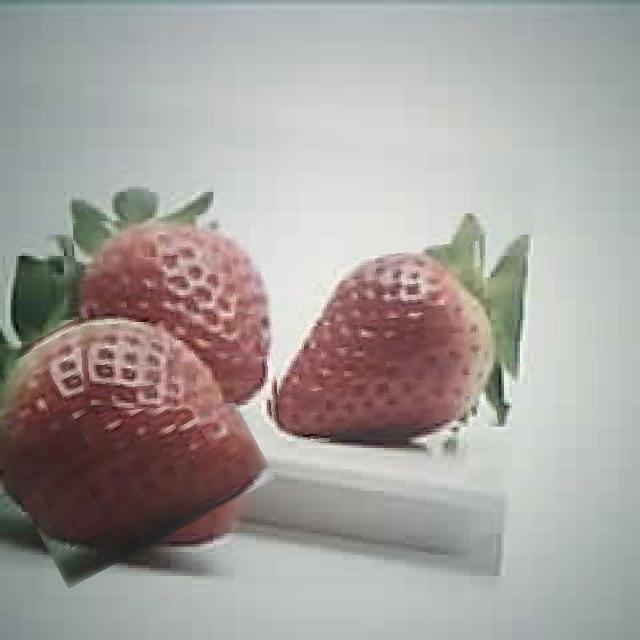strawberry: (0, 291, 256, 567), (261, 246, 494, 442), (76, 214, 275, 410)
